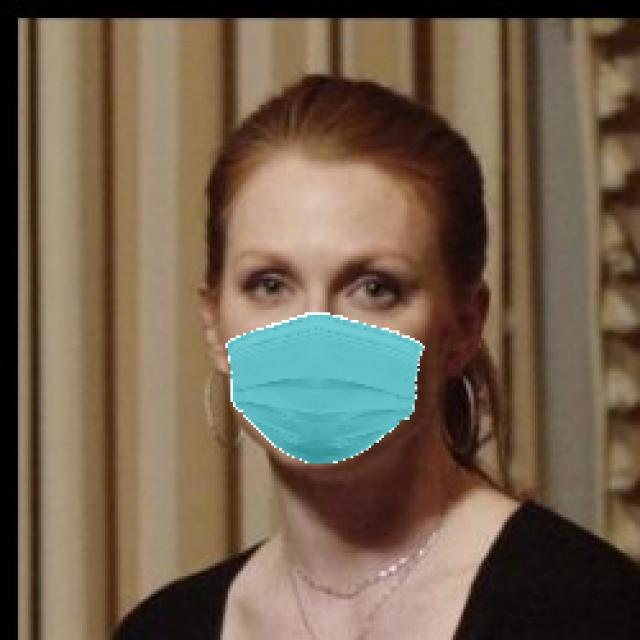mask: (201, 305, 442, 484)
